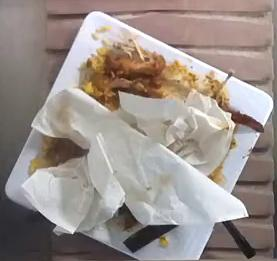chicken: (79, 38, 164, 109)
